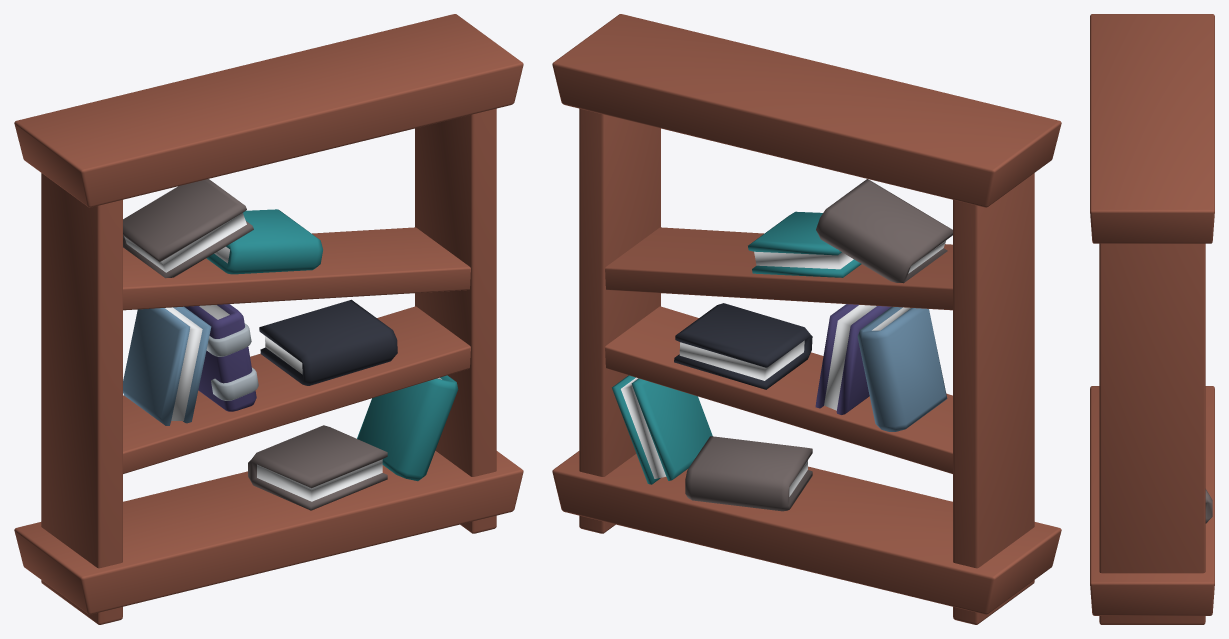
The model's file is kaykit-bookcasewidefilled-broken.glb.
3 renders of one model, left to right at view 1: azimuth 30°, elevation 25°; view 2: azimuth 150°, elevation 25°; view 3: azimuth 270°, elevation 25°, orthographic. The views are drawn at different scales.
Parts seen in each view (by area): view 1: bookcaseWideFilled_broken; view 2: bookcaseWideFilled_broken; view 3: bookcaseWideFilled_broken.
Part boxes in pixels (x1,y1,x2,y2): bookcaseWideFilled_broken: [14, 14, 523, 624]; bookcaseWideFilled_broken: [552, 14, 1061, 624]; bookcaseWideFilled_broken: [1090, 14, 1214, 624].
Bounding box in the file's own units: 1.99 × 2 × 0.5334.
Materials: 4 (4 with a texture image).
